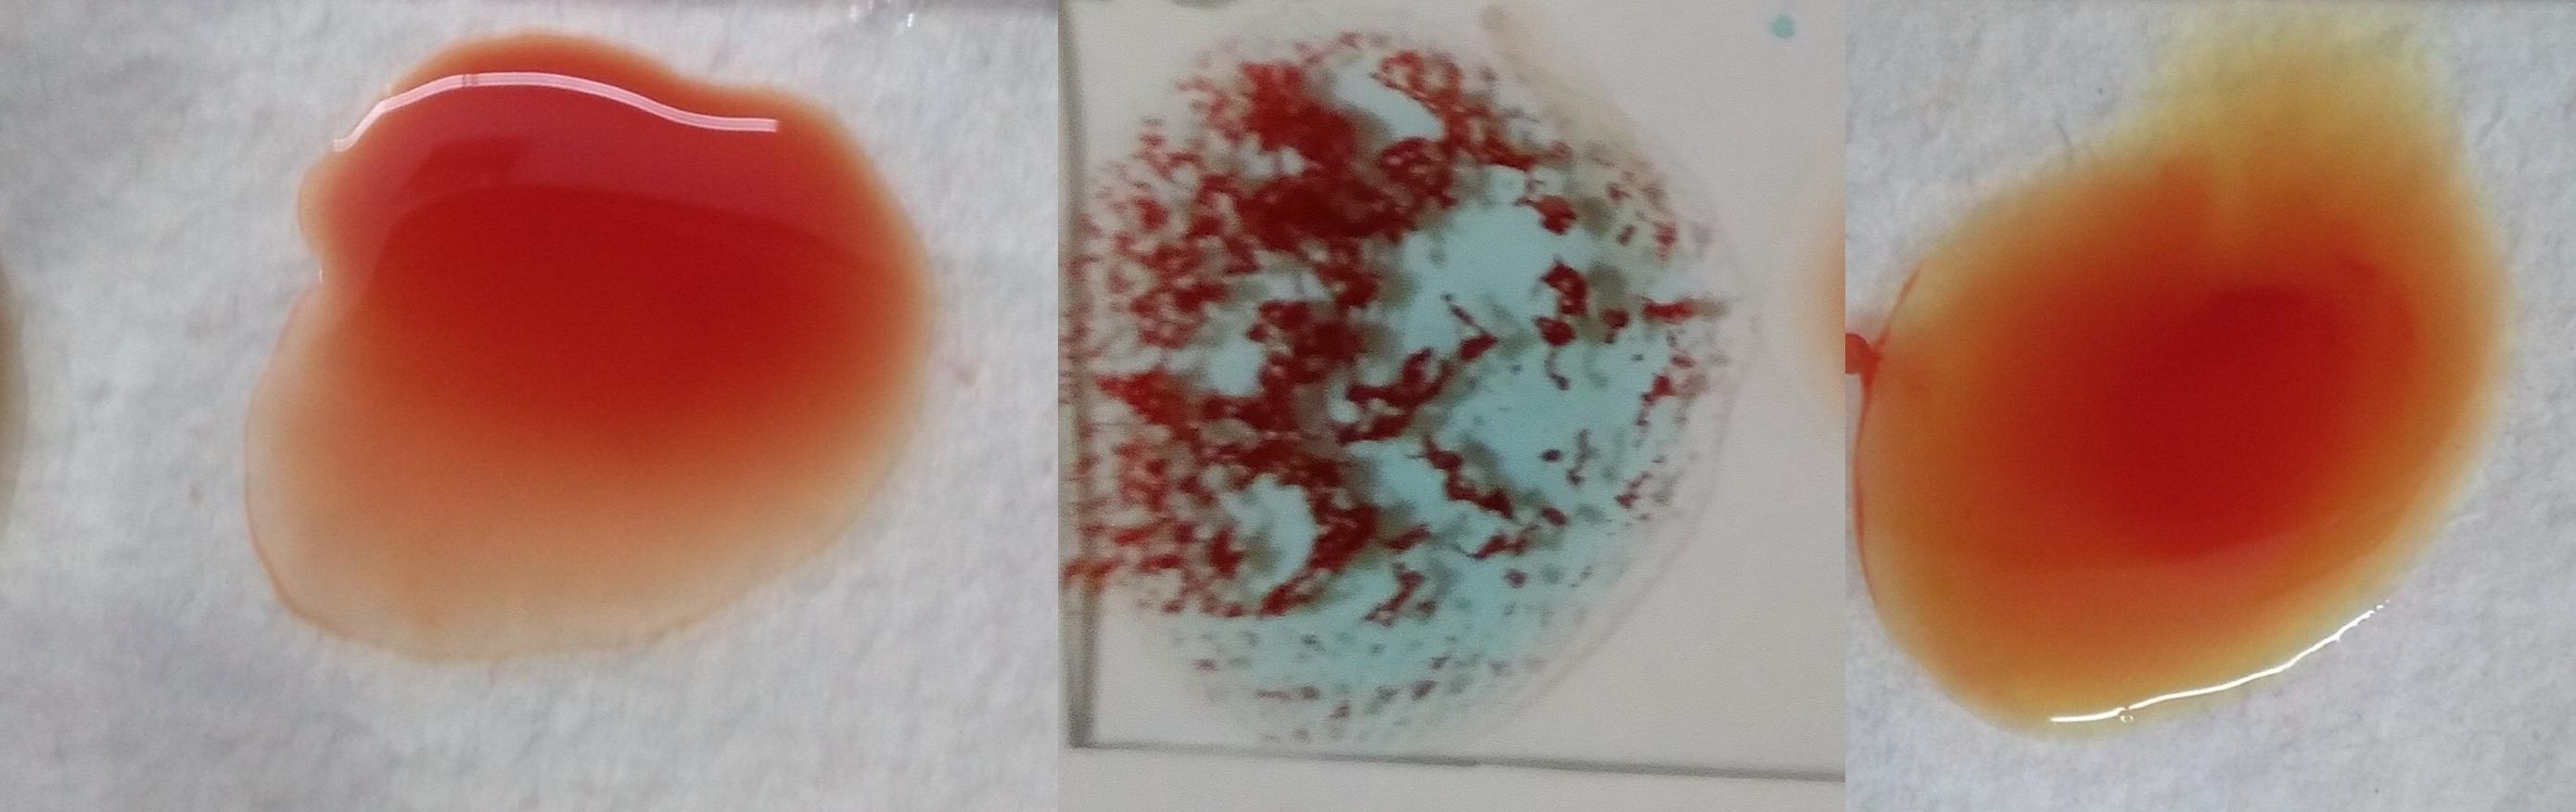A: (1099, 39, 1705, 738)
